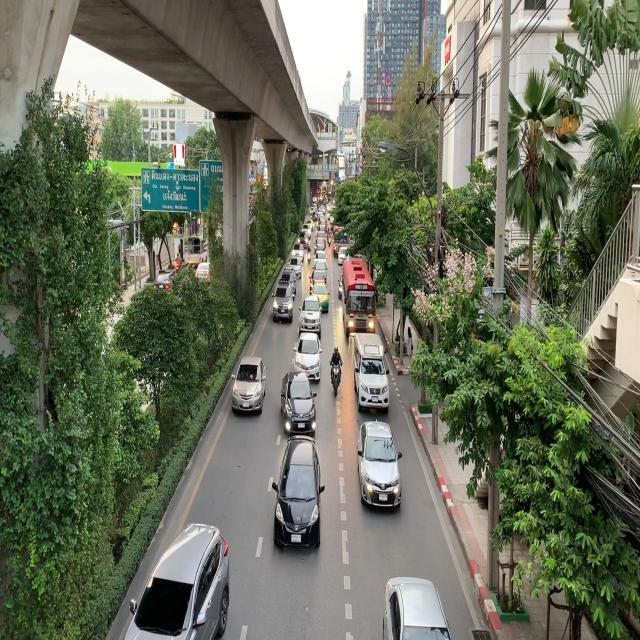Bus: (340, 256, 376, 334)
Car: (126, 521, 235, 640), (276, 433, 321, 554), (383, 572, 455, 640), (355, 415, 403, 515), (354, 329, 391, 413), (230, 351, 268, 423), (280, 366, 314, 433), (294, 335, 324, 375), (306, 272, 331, 316), (272, 279, 295, 324), (298, 293, 320, 331), (292, 243, 306, 266)
Motorcycle: (329, 342, 344, 404)
